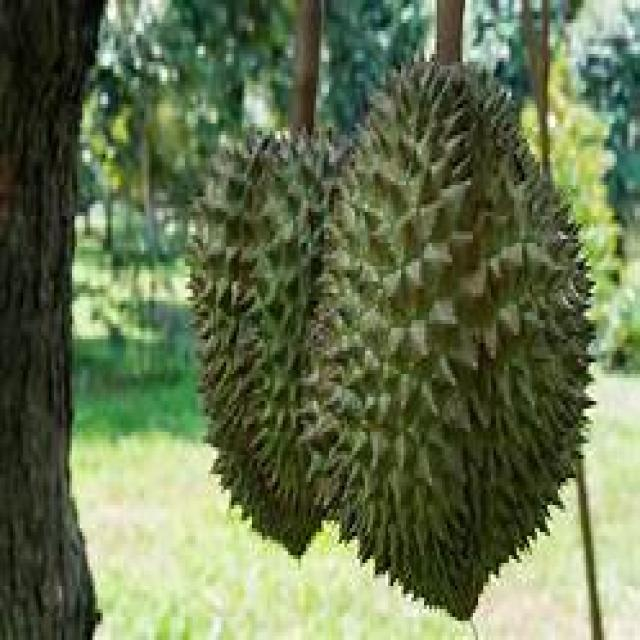immature: (304, 47, 600, 610), (185, 117, 376, 566)
